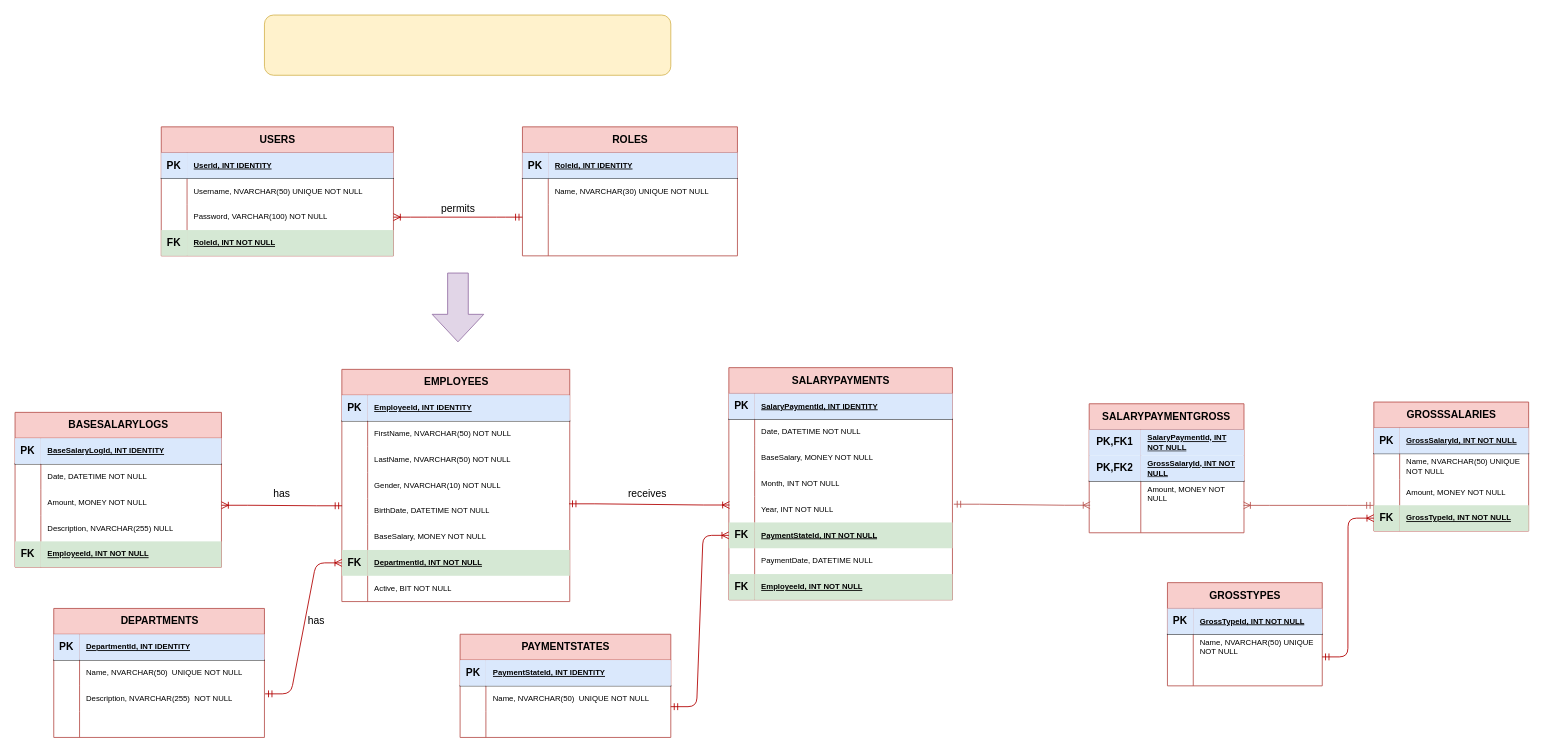
Image size: 1544x753. Some labels were removed from this diagram. The shapes that lost their labels are listed below. From the top down, each one's centre as x and y in pixels, then its label:
At [467,44]: "Salary Employee Management ER Diagram To Build Using MS SQL Server and ADO.NET".
At [457,307]: "Manages".
